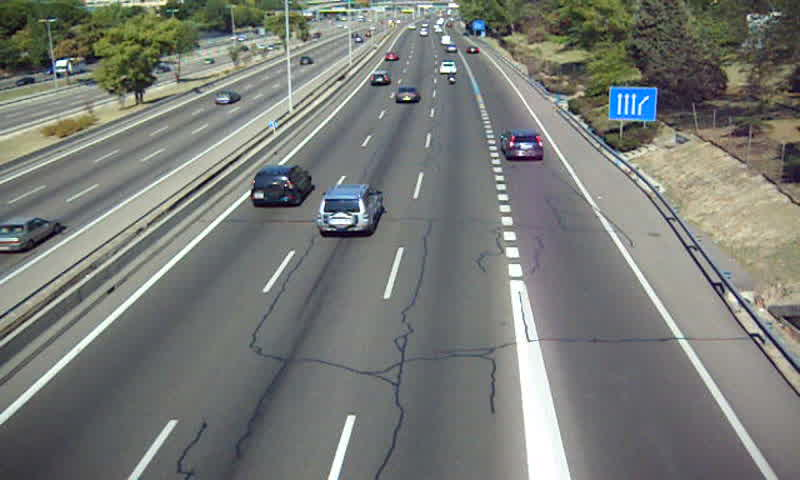car: (317, 184, 380, 237), (250, 164, 312, 208), (500, 129, 545, 160), (394, 86, 420, 105), (369, 70, 390, 86), (439, 60, 457, 73)
motorcycle: (445, 73, 457, 87)
